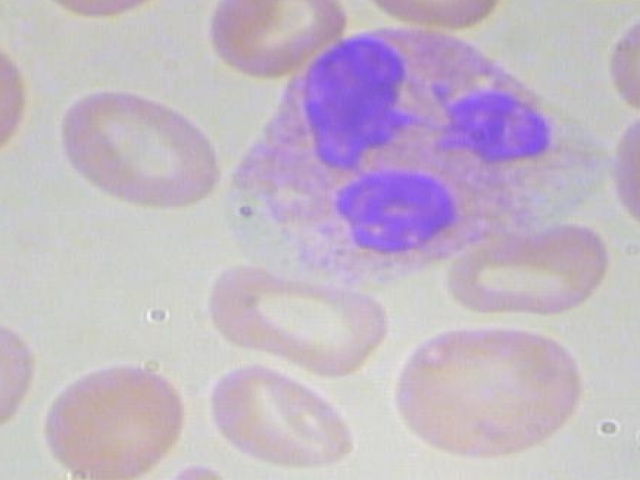RBC: (393, 318, 586, 459), (34, 76, 227, 217), (199, 261, 405, 377), (34, 355, 196, 480), (202, 357, 364, 480), (443, 216, 621, 321), (206, 0, 346, 82), (0, 26, 55, 167), (594, 1, 640, 124), (0, 308, 42, 437), (353, 0, 504, 32), (25, 0, 176, 32), (608, 100, 640, 241)
WBC: (179, 18, 596, 280)
